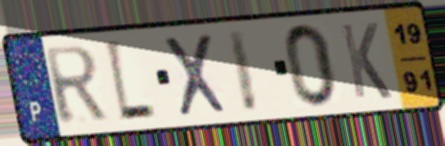0: (281, 21, 341, 110)
I: (224, 26, 262, 116)
K: (337, 20, 395, 101)
L: (101, 37, 159, 127)
R: (41, 42, 111, 127)
X: (159, 30, 231, 120)
